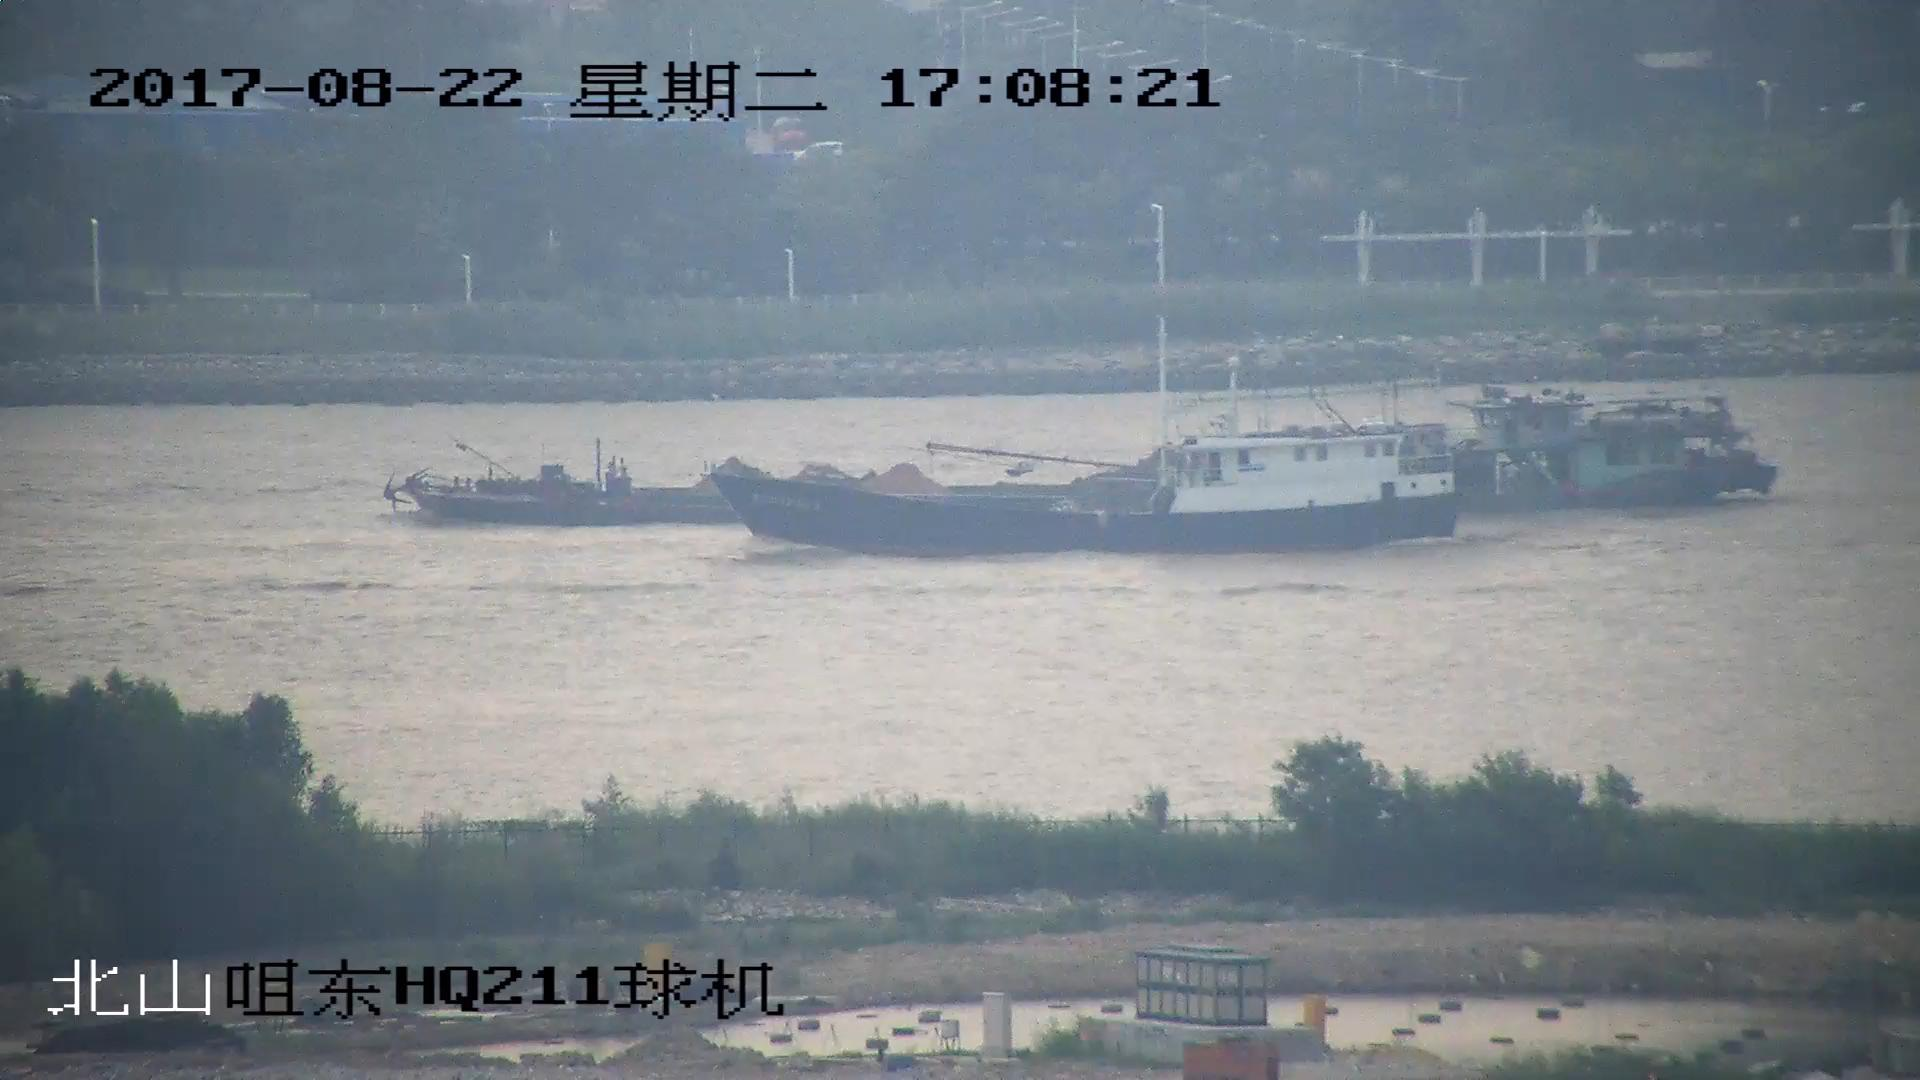Ship: (378, 375, 1782, 530), (715, 375, 1452, 555)
